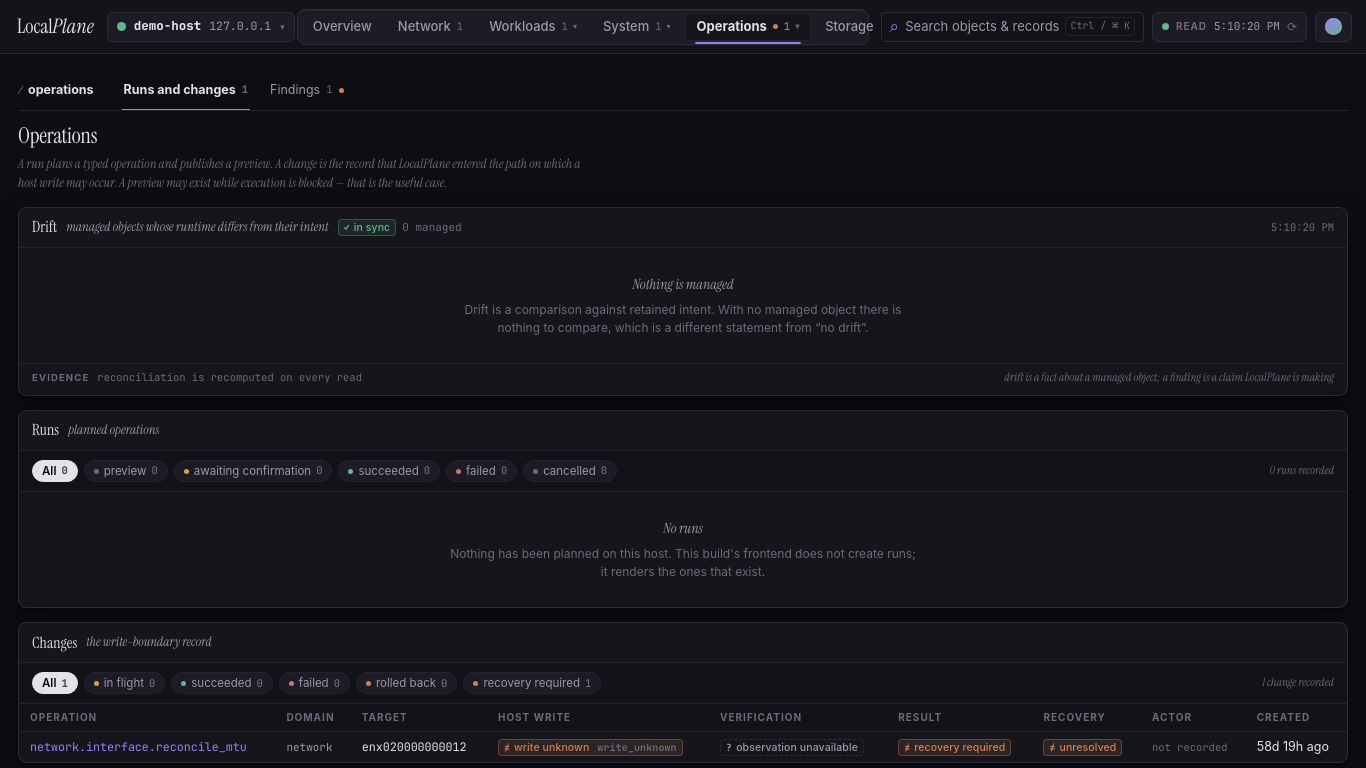
Test case: filter chips › drops the counts once a filter is on, rather than showing stale ones
The image size is (1366, 768).
Click the button "failed 0" in the row of "1 change recorded".
click(314, 683)  # box [279,672,350,694]
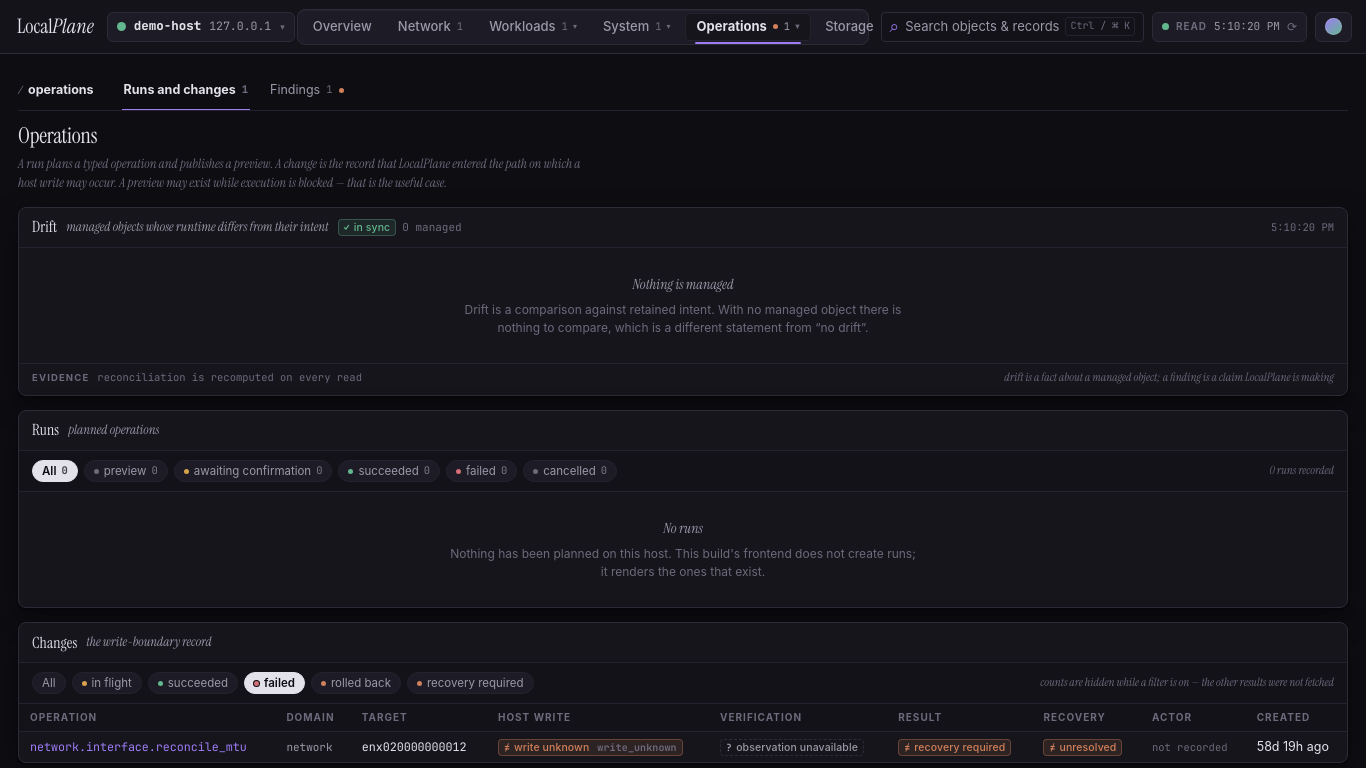
Result: the text "counts are hidden while a filter is on" is shown at [1040,675,1334,690]
Result: the button "All" is shown at [32,672,66,694]
